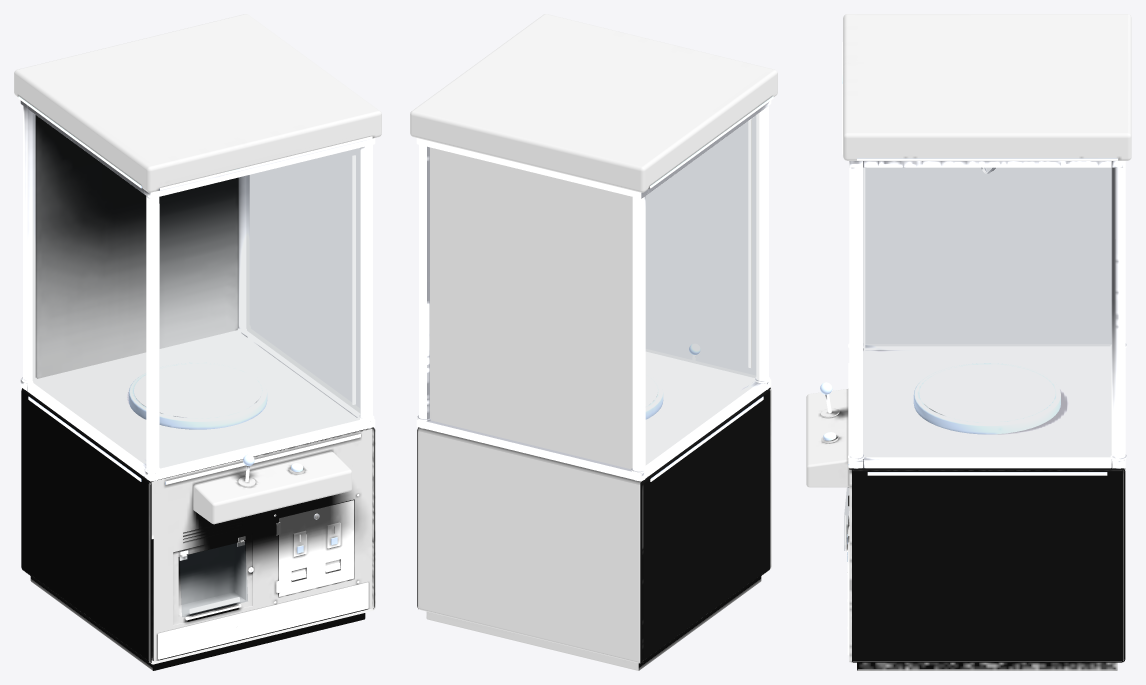
Rendered from claw-v2.glb.
3 renders of one model, left to right at view 1: azimuth 30°, elevation 25°; view 2: azimuth 150°, elevation 25°; view 3: azimuth 270°, elevation 25°, orthographic. The views are drawn at different scales.
Parts seen in each view (by area): view 1: body, back, chrome, glass, side_art_l, floor, disc, led, metal, lamp; view 2: body, back, side_art_l, glass, chrome, floor, lamp, led, disc; view 3: side_art_r, body, glass, floor, chrome, disc, led, lamp.
Boxes of the visible parts, <box> form: body: <box>14,14,381,670</box>; back: <box>35,115,238,378</box>; chrome: <box>20,100,375,659</box>; glass: <box>179,148,360,616</box>; side_art_l: <box>21,388,151,663</box>; floor: <box>39,333,356,465</box>; disc: <box>128,362,267,429</box>; led: <box>18,96,372,484</box>; metal: <box>179,494,359,641</box>; lamp: <box>159,155,355,451</box>; body: <box>410,14,777,670</box>; back: <box>430,147,632,469</box>; side_art_l: <box>640,388,770,663</box>; glass: <box>646,115,756,377</box>; chrome: <box>416,100,771,481</box>; floor: <box>645,356,752,460</box>; lamp: <box>748,119,751,368</box>; led: <box>650,96,773,481</box>; disc: <box>645,373,663,419</box>; side_art_r: <box>851,468,1125,662</box>; body: <box>806,14,1131,670</box>; glass: <box>844,168,1111,550</box>; floor: <box>863,350,1111,454</box>; chrome: <box>847,161,1126,655</box>; disc: <box>913,363,1060,434</box>; led: <box>842,42,1117,475</box>; lamp: <box>863,167,865,439</box>.
Size of the model in its own units: 0.946 by 1.95 by 1.06.
Materials: 14 (4 with a texture image).
